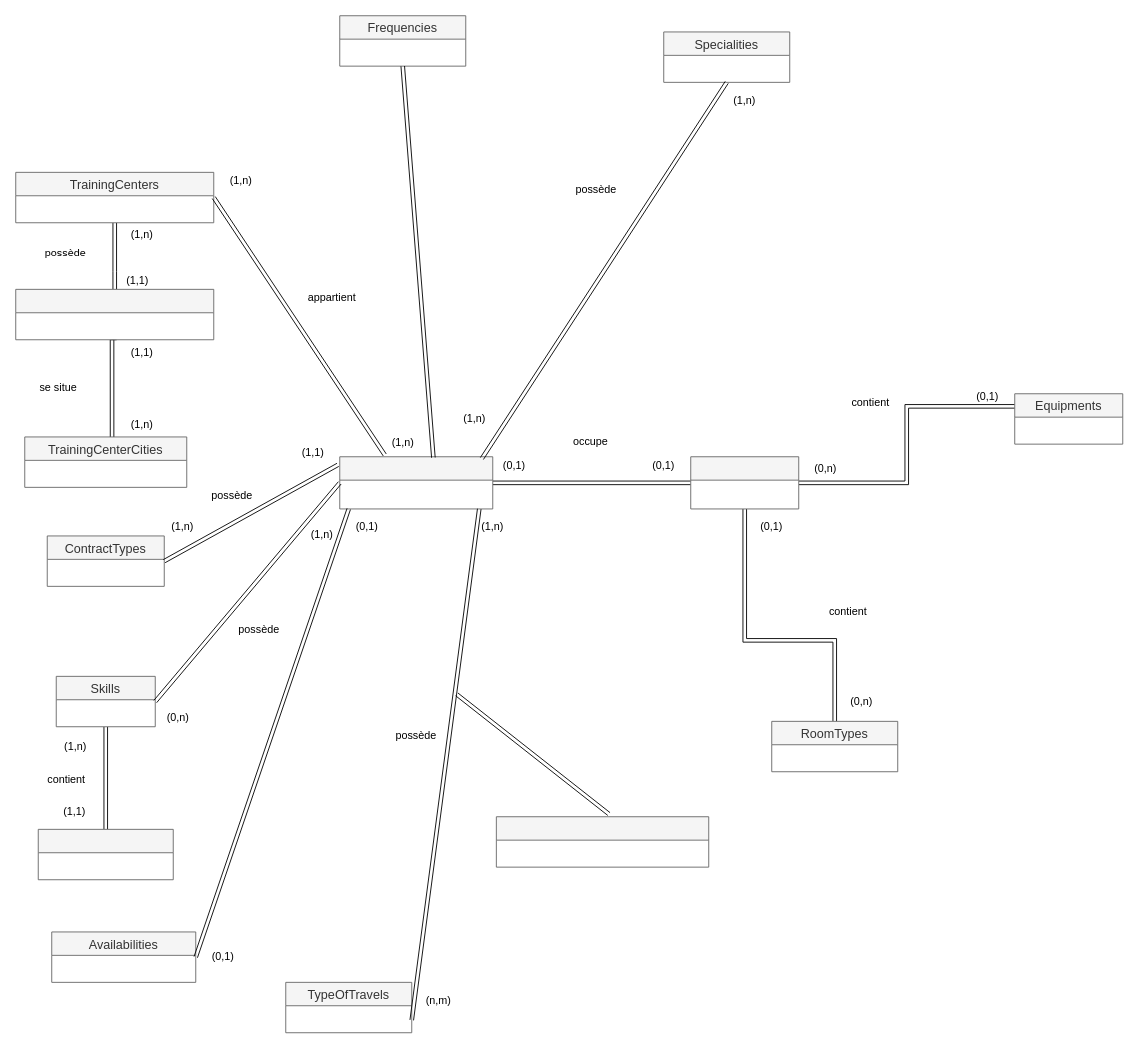
The diagram is 1139 pixels wide and 1049 high, and some of its shapes have lost their labels. Here are the shapes that lost their labels. From the top down, the centre of each, then its label:
the point at 114,314: TrainingCenterAdress
the point at 416,482: Formateurs
the point at 744,482: Salles
the point at 105,854: SkillsTypes
the point at 602,841: FormateursTypeOfTravels
